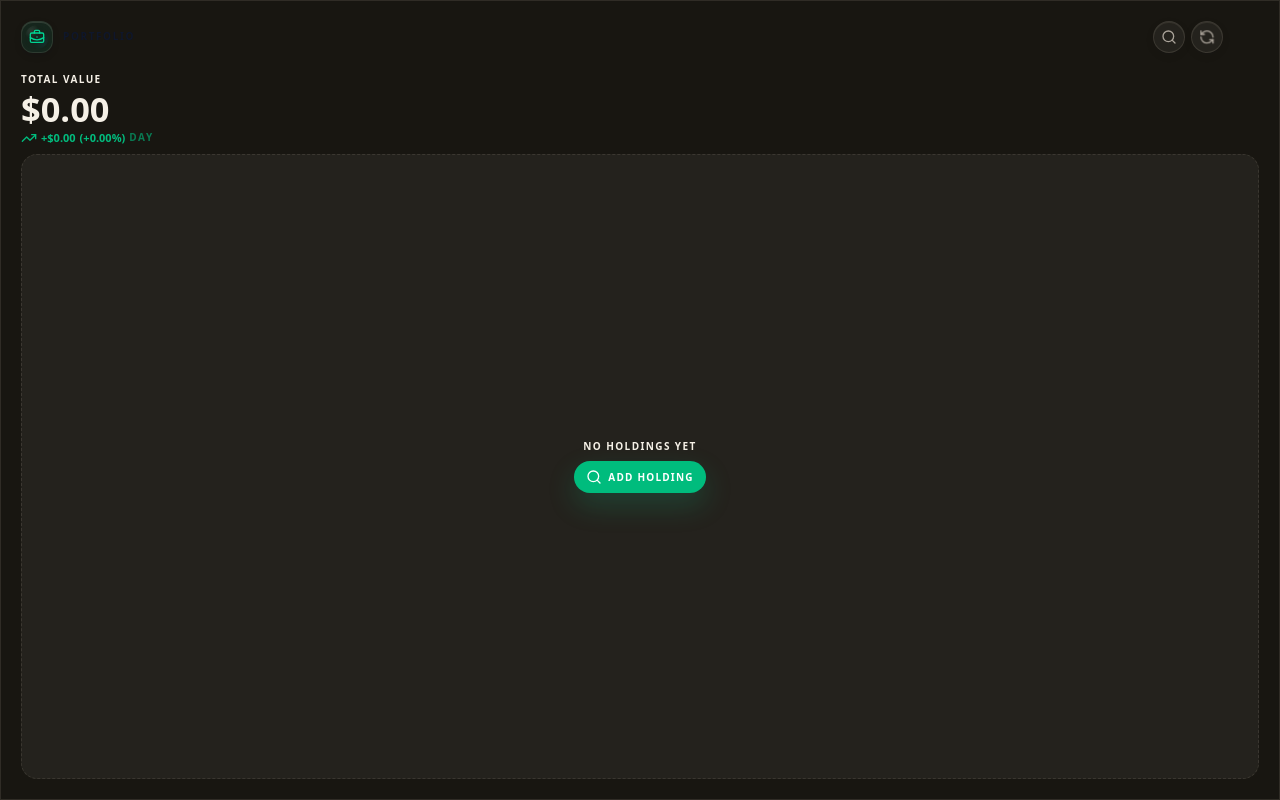
Test case: PortfolioWidget › opens inline search from the empty holdings state
The width and height of the screenshot is (1280, 800).
Click the button "Add holding" at (640,477), box [574,461,706,493]
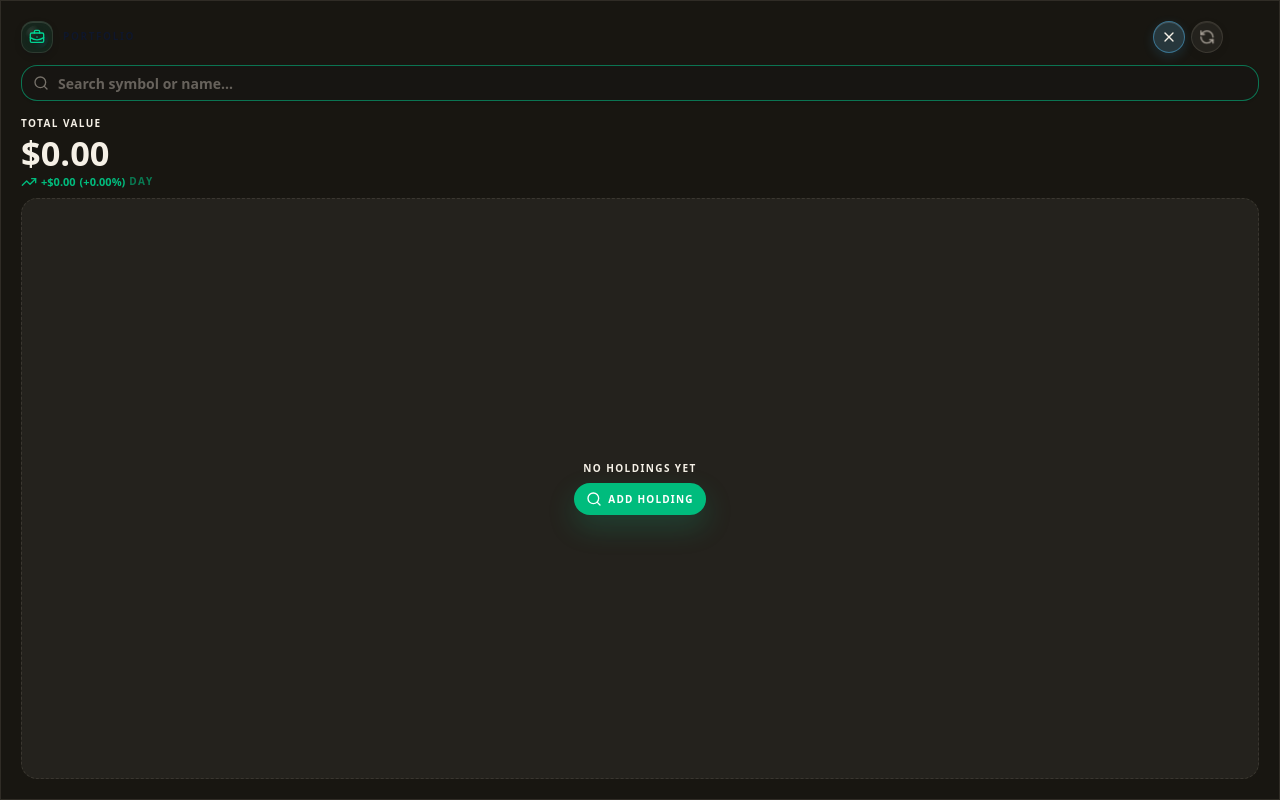
expect the field named "search stock to add to portfolio" is shown: met, box [21,65,1259,101]
